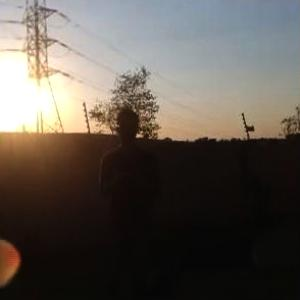follow: (96, 102, 165, 299)
